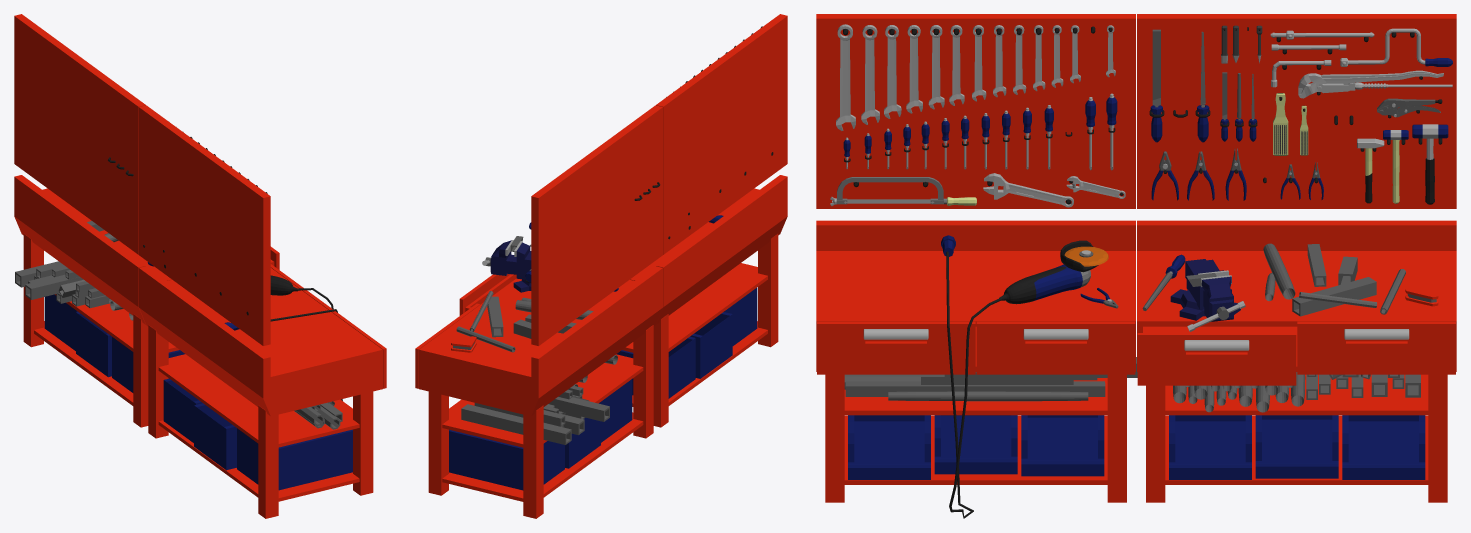
The model's file is work tool table.fbx.
The picture shows the model from 3 angles, left to right: view 1: azimuth 30°, elevation 25°; view 2: azimuth 150°, elevation 25°; view 3: azimuth 270°, elevation 25°; orthographic projection. The views are drawn at different scales.
Parts seen in each view (by area): view 1: Cube.261, Cube.260, Cube.093, Cube.100, Cube.095, Cube.098, Cube.211, Cube.101, Cube.212, Cube.094, Cube.209, Cube.104 (+6 smaller); view 2: Cube.260, Cube.261, Cube.100, Cube.093, Cube.101, Cube.210, Cube.095, Cube.098, Cube.104, Cube.102, Cube.212, Cube.306 (+11 smaller); view 3: Cube.260, Cube.261, Cube.093, Cube.100, Cube.096, Cube.207, Cube.103, Cube.104, Cube.210, Cube.211, Cube.208, Cube.209 (+30 smaller).
Boxes of the visible parts, x1,y1,x2,y2 form: Cube.261: [139, 105, 270, 345]; Cube.260: [14, 14, 145, 254]; Cube.093: [139, 266, 382, 416]; Cube.100: [14, 175, 171, 324]; Cube.095: [148, 325, 373, 518]; Cube.098: [158, 354, 359, 447]; Cube.211: [237, 428, 352, 490]; Cube.101: [23, 234, 148, 427]; Cube.212: [194, 403, 236, 470]; Cube.094: [158, 420, 359, 501]; Cube.209: [76, 312, 111, 377]; Cube.104: [55, 294, 179, 352]; Cube.260: [531, 105, 662, 345]; Cube.261: [656, 14, 787, 254]; Cube.100: [419, 266, 662, 416]; Cube.093: [630, 175, 787, 324]; Cube.101: [428, 325, 653, 518]; Cube.210: [449, 429, 564, 490]; Cube.095: [653, 234, 778, 427]; Cube.098: [622, 263, 767, 352]; Cube.104: [442, 354, 643, 447]; Cube.102: [442, 412, 643, 501]; Cube.212: [690, 312, 732, 378]; Cube.306: [461, 404, 571, 444]; Cube.260: [1137, 14, 1456, 208]; Cube.261: [816, 14, 1135, 208]; Cube.093: [816, 220, 1135, 371]; Cube.100: [1137, 220, 1456, 371]; Cube.096: [817, 321, 1135, 374]; Cube.207: [1137, 326, 1296, 385]; Cube.103: [1297, 321, 1455, 374]; Cube.104: [1165, 374, 1428, 415]; Cube.210: [1342, 415, 1425, 479]; Cube.211: [848, 415, 930, 479]; Cube.208: [1169, 415, 1251, 479]; Cube.209: [1255, 415, 1338, 478].
Size of the model in its own units: 112 by 199 by 275.
